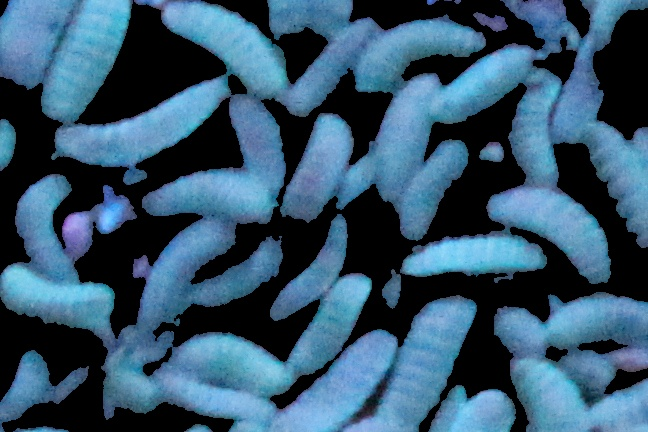larvae: (52, 75, 228, 170), (373, 297, 477, 432), (487, 178, 613, 283), (279, 329, 396, 432), (164, 3, 286, 97), (139, 221, 239, 327), (40, 1, 129, 119), (355, 19, 485, 92), (270, 216, 355, 320), (374, 74, 442, 198), (286, 273, 371, 372), (581, 122, 648, 247), (288, 17, 374, 114), (12, 176, 88, 281), (164, 332, 292, 394), (432, 44, 533, 122), (1, 260, 115, 327), (284, 114, 352, 219), (152, 365, 277, 420), (144, 169, 278, 220), (399, 141, 465, 238), (506, 69, 561, 185), (509, 355, 592, 431), (189, 237, 280, 306), (1, 1, 73, 87), (548, 289, 648, 350), (407, 237, 545, 277), (227, 97, 285, 181), (105, 350, 156, 412), (2, 349, 47, 418), (335, 154, 375, 209)
